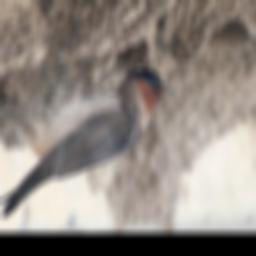Swallow: (0, 68, 178, 218)
